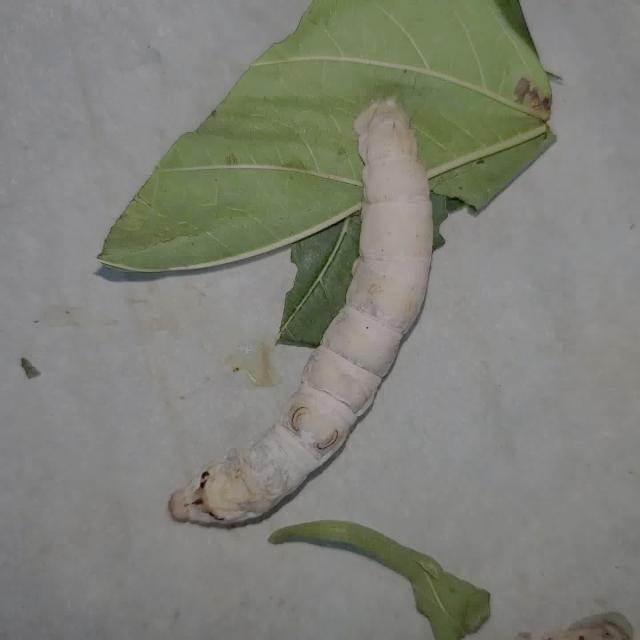Grasserie: (156, 76, 441, 536)
